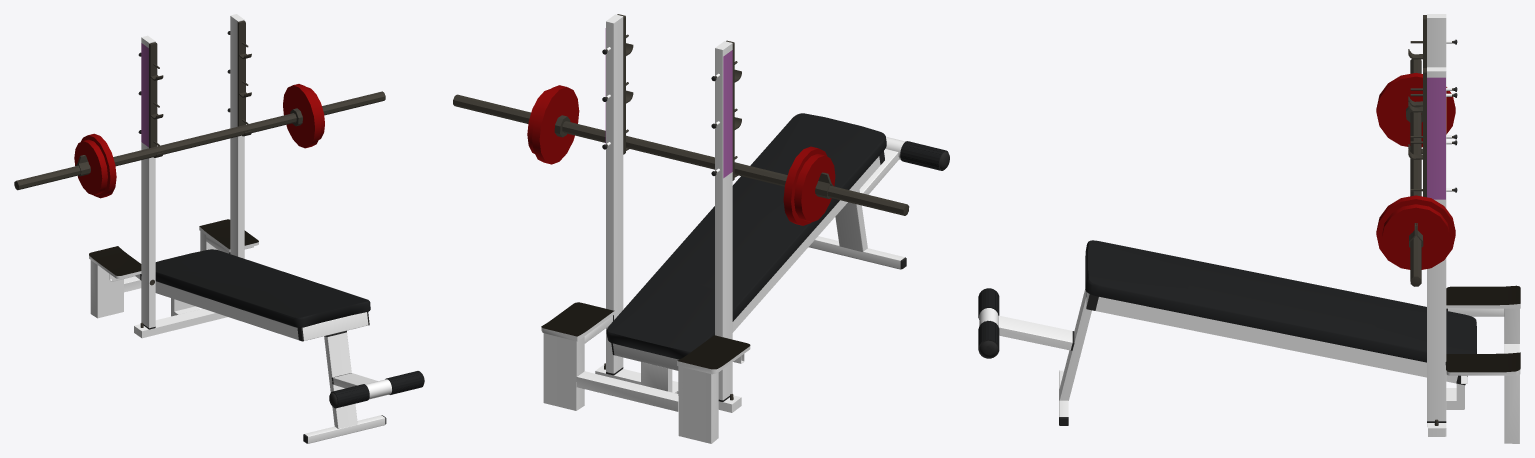
The model's file is masina.obj.
3 views of the same model, side by side, from view 1: azimuth 30°, elevation 25°; view 2: azimuth 150°, elevation 25°; view 3: azimuth 270°, elevation 25° (orthographic). The views are drawn at different scales.
Visible parts, largest first — view 1: E300WHIT, E300CUBK, E300SILV, E300RD10, E300CRMD, E300RD5K, E300PGLL; view 2: E300WHIT, E300CUBK, E300SILV, E300RD10, E300CRMD, E300RD5K, E300PGLL; view 3: E300CUBK, E300WHIT, E300RD10, E300SILV, E300RD5K, E300CRMD, E300PGLG.
Boxes of the visible parts, box(x1,y1,x2,y2) form: E300WHIT: box(89, 14, 391, 443); E300CUBK: box(155, 249, 423, 408); E300SILV: box(14, 20, 385, 327); E300RD10: box(81, 84, 321, 198); E300CRMD: box(89, 219, 258, 275); E300RD5K: box(74, 87, 324, 195); E300PGLL: box(141, 43, 148, 147); E300WHIT: box(541, 14, 905, 443); E300CUBK: box(606, 113, 945, 359); E300SILV: box(453, 14, 909, 400); E300RD10: box(532, 85, 827, 225); E300CRMD: box(541, 302, 750, 369); E300RD5K: box(527, 89, 835, 222); E300PGLL: box(723, 50, 732, 178); E300CUBK: box(978, 240, 1476, 362); E300WHIT: box(979, 14, 1520, 443); E300RD10: box(1376, 73, 1455, 269); E300SILV: box(1406, 15, 1453, 425); E300RD5K: box(1382, 204, 1450, 268); E300CRMD: box(1446, 285, 1520, 372); E300PGLG: box(1427, 77, 1445, 199).
Size of the model in its own units: 212 by 161 by 220.
